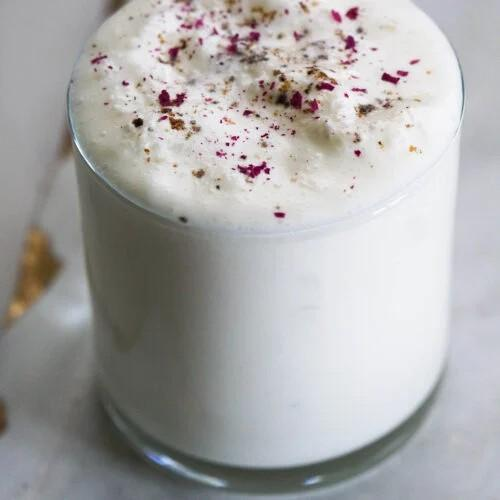Lassi: (70, 0, 461, 468)
